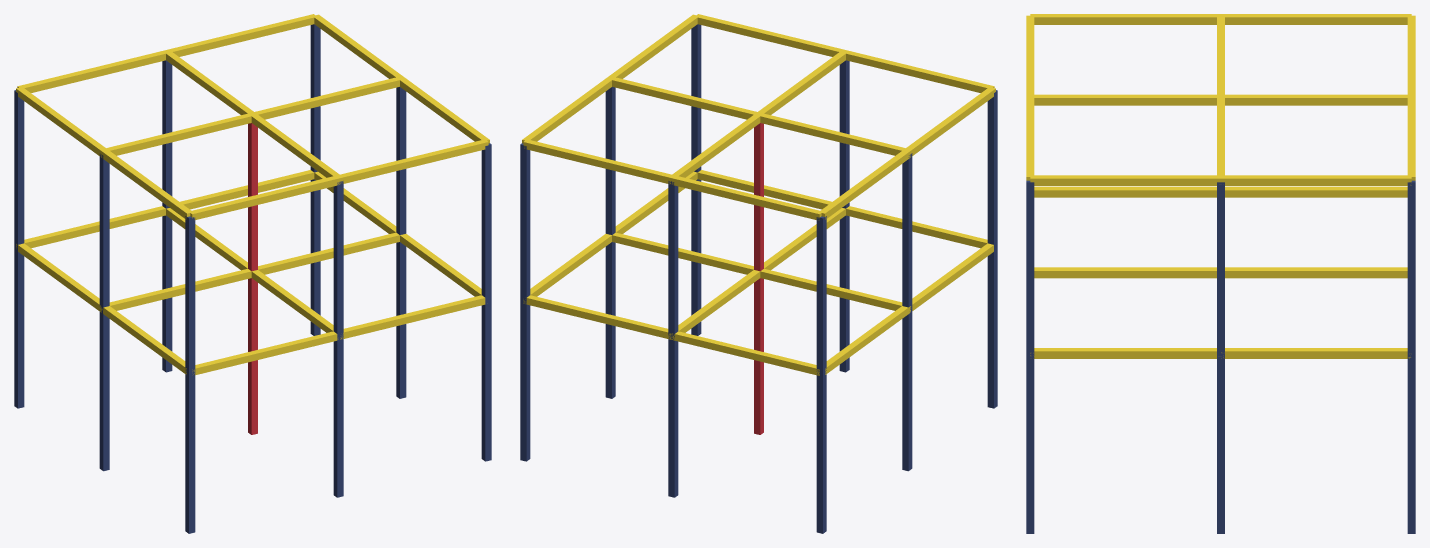
The model's file is site_play3.fbx.
3 renders of one model, left to right at view 1: azimuth 30°, elevation 25°; view 2: azimuth 150°, elevation 25°; view 3: azimuth 270°, elevation 25°, orthographic. The views are drawn at different scales.
Parts seen in each view (by area): view 1: a3004/0/site_play3; view 2: a3004/0/site_play3; view 3: a3004/0/site_play3.
Boxes of the visible parts, left/top/right/bottom form: a3004/0/site_play3: left=14, top=14, right=491, bottom=533; a3004/0/site_play3: left=520, top=14, right=997, bottom=533; a3004/0/site_play3: left=1026, top=14, right=1415, bottom=533.
Size of the model in its own units: 2.37 by 2.38 by 2.37.
